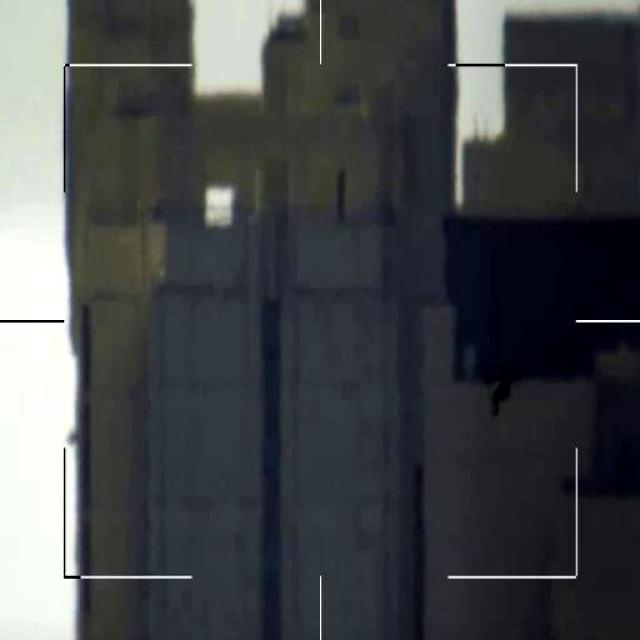bird: (482, 361, 521, 421)
